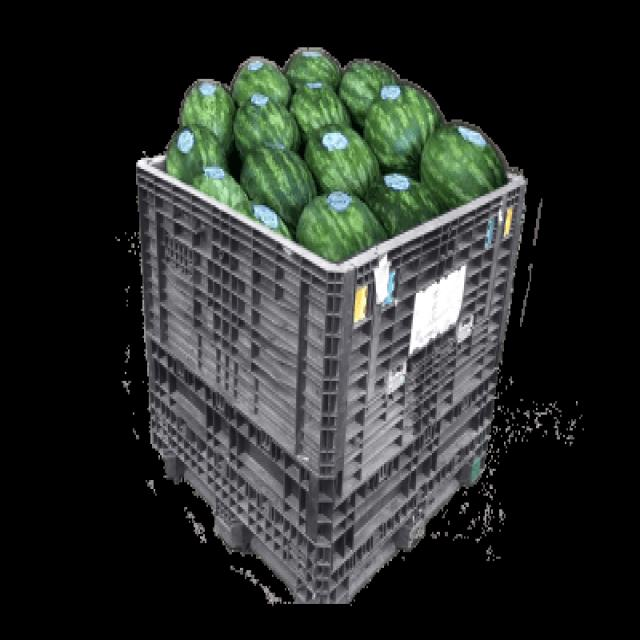basket: (117, 154, 529, 614)
